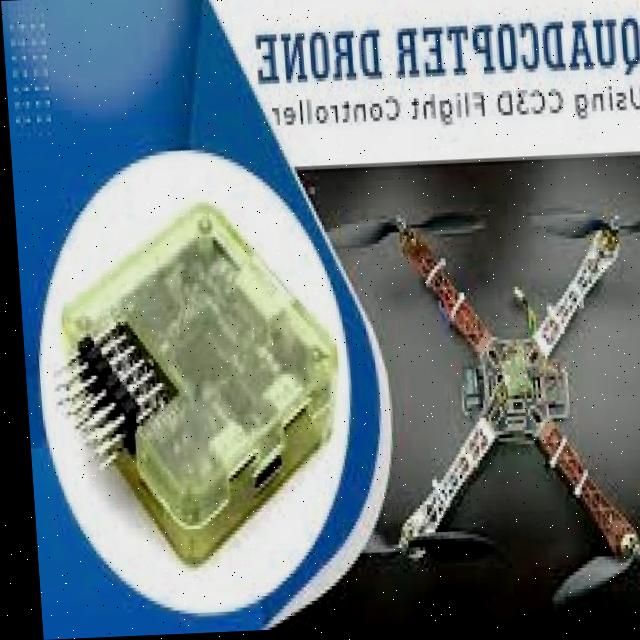drone: (321, 188, 640, 629)
